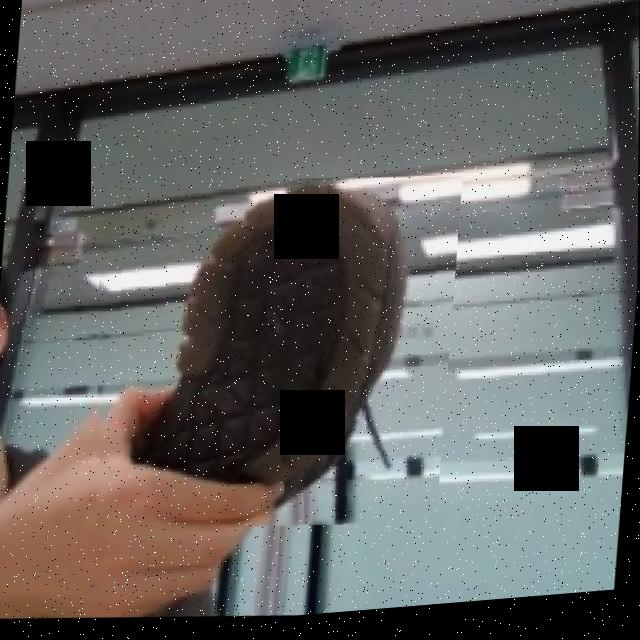shoe: (73, 158, 463, 559)
